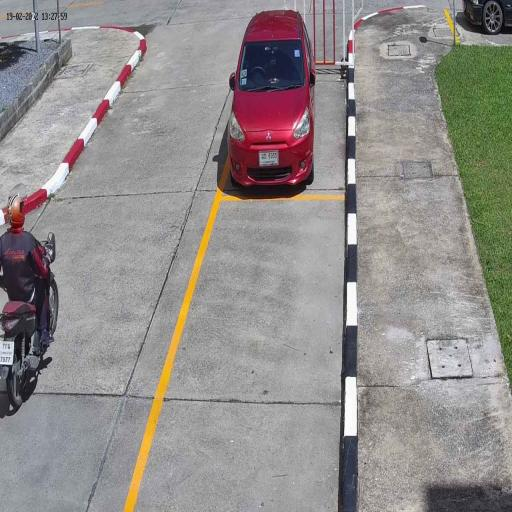car: (226, 8, 316, 190)
motorcycle: (0, 278, 60, 411)
